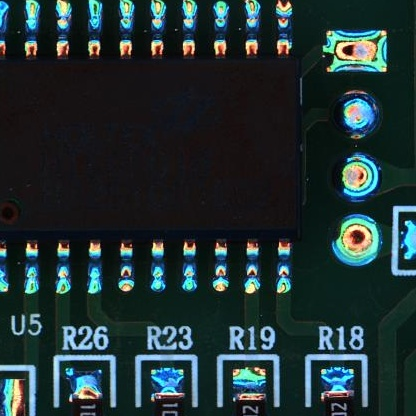spot: (326, 31, 390, 75), (330, 214, 383, 267), (331, 152, 383, 205), (332, 90, 383, 139)
